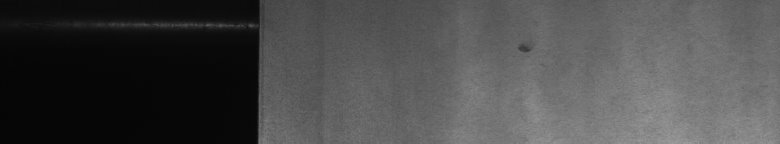fi: (513, 36, 534, 60)
